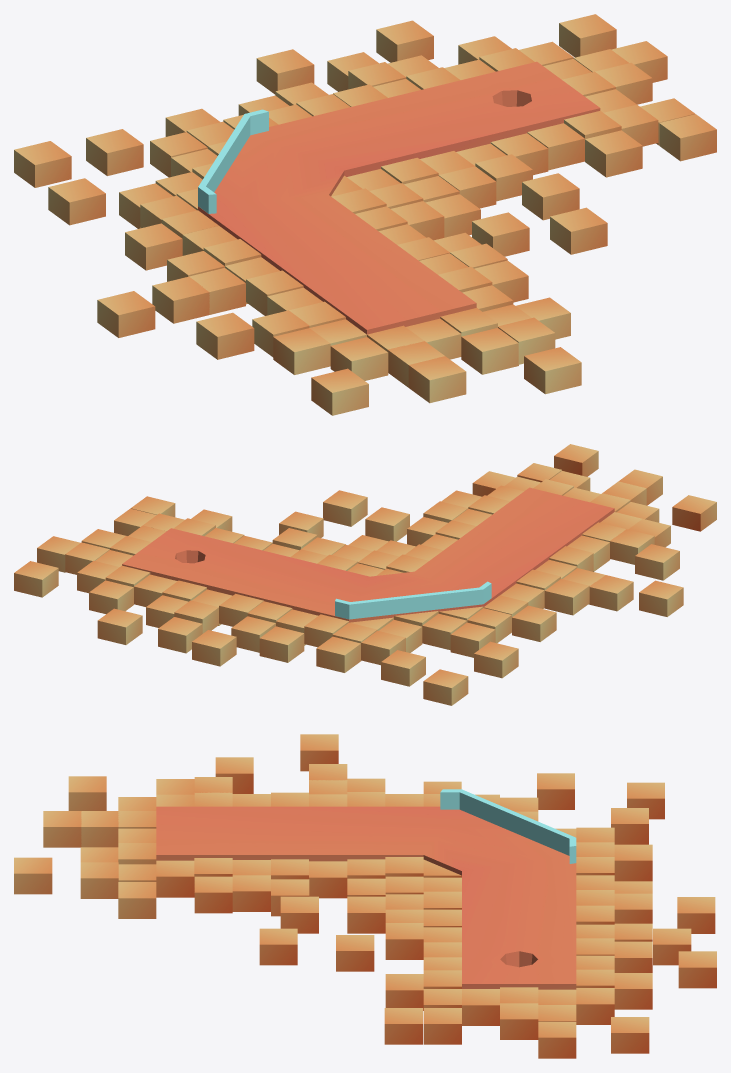
File: Level_01_02.fbx
The picture shows the model from 3 angles, top to bottom: view 1: azimuth 30°, elevation 25°; view 2: azimuth 150°, elevation 25°; view 3: azimuth 270°, elevation 25°; orthographic projection. The views are drawn at different scales.
Parts seen in each view (by area): view 1: pCube3, pCube202, pCube197, pCube198, pCube180, pCube78, pCube199, pCube153, pCube159, pCube188, pCube200, pCube189 (+70 smaller); view 2: pCube3, pCube202, pCube190, pCube191, pCube187, pCube174, pCube186, pCube189, pCube194, pCube198, pCube153, pCube177 (+61 smaller); view 3: pCube3, pCube202, pCube124, golflevel1:pCube121, pCube157, pCube187, pCube59, pCube200, pCube153, pCube177, golflevel1:pCube62, pCube75 (+71 smaller).
Part boxes in pixels (x1,y1,x2,y2): pCube3: [198, 61, 600, 334]; pCube202: [198, 109, 268, 213]; pCube197: [196, 312, 254, 359]; pCube198: [97, 291, 155, 337]; pCube180: [408, 356, 466, 403]; pCube78: [585, 130, 642, 177]; pCube199: [311, 368, 368, 415]; pCube153: [550, 207, 607, 254]; pCube159: [659, 114, 716, 161]; pCube188: [86, 129, 143, 175]; pCube200: [524, 347, 581, 394]; pCube189: [48, 178, 105, 225]; pCube3: [122, 487, 614, 622]; pCube202: [335, 581, 491, 619]; pCube190: [423, 669, 468, 705]; pCube191: [544, 579, 589, 615]; pCube187: [97, 608, 142, 644]; pCube174: [259, 626, 304, 662]; pCube186: [192, 630, 236, 666]; pCube189: [474, 641, 518, 678]; pCube194: [512, 605, 556, 641]; pCube198: [639, 580, 683, 616]; pCube153: [323, 490, 367, 526]; pCube177: [316, 636, 361, 672]; pCube3: [156, 806, 576, 989]; pCube202: [440, 789, 576, 863]; pCube124: [347, 896, 385, 933]; golflevel1:pCube121: [156, 860, 194, 897]; pCube157: [538, 1021, 576, 1058]; pCube187: [678, 951, 716, 988]; pCube59: [194, 876, 232, 913]; pCube200: [14, 857, 52, 894]; pCube153: [259, 928, 297, 965]; pCube177: [614, 844, 652, 881]; golflevel1:pCube62: [309, 861, 347, 898]; pCube75: [385, 923, 423, 959].
Size of what is drawn, in the model's own units: 18.6 by 1.41 by 18.41.
3 materials, 3 textured.
